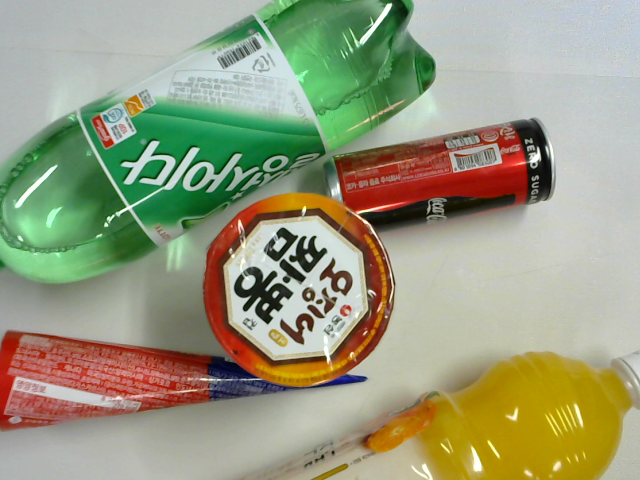Chilseong_Cider_1.5L: (1, 2, 437, 282)
Coca_Cola_Zero_Can_250ml: (327, 117, 557, 228)
Jeju_Tangerine_1.5L: (239, 348, 640, 480)
Ojjam: (204, 194, 399, 385)
World_Cone_Banila: (1, 329, 365, 434)
